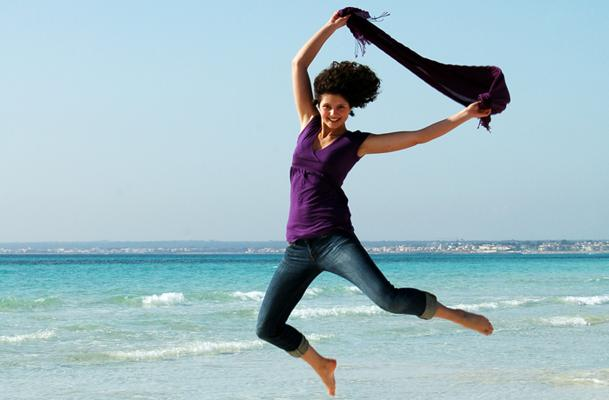person: (252, 10, 497, 395)
